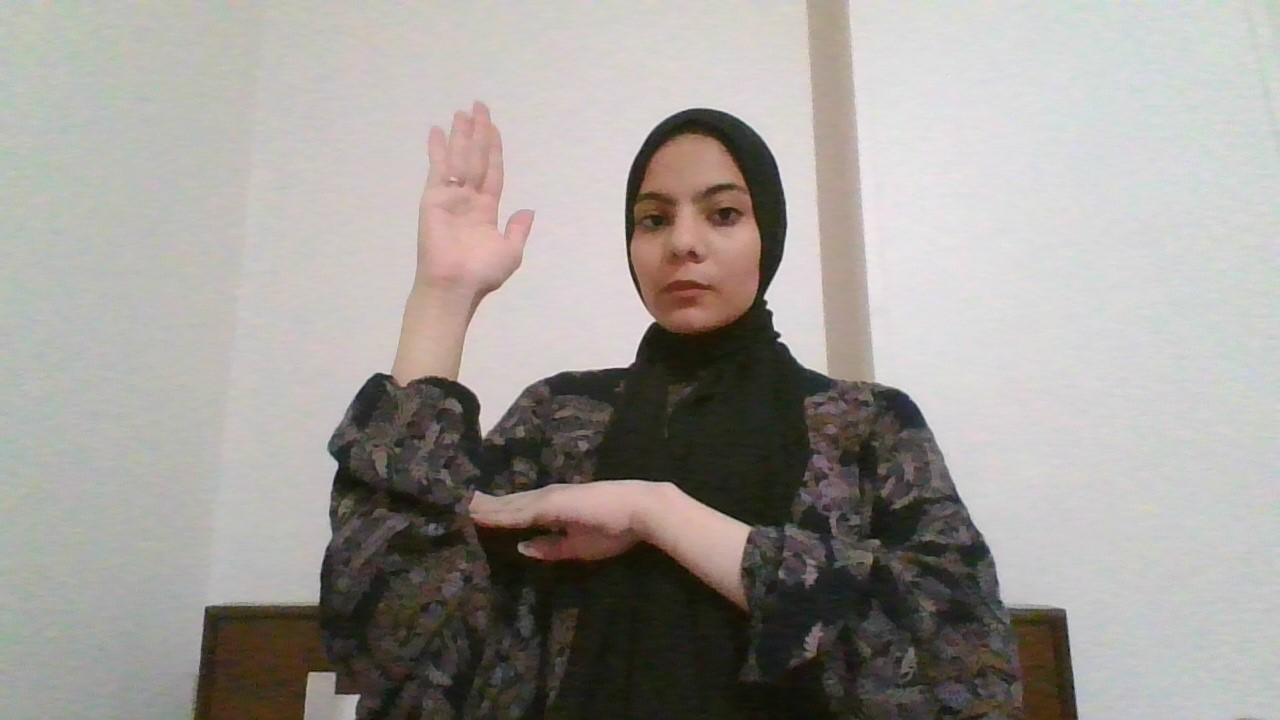morning: (381, 76, 621, 641)
